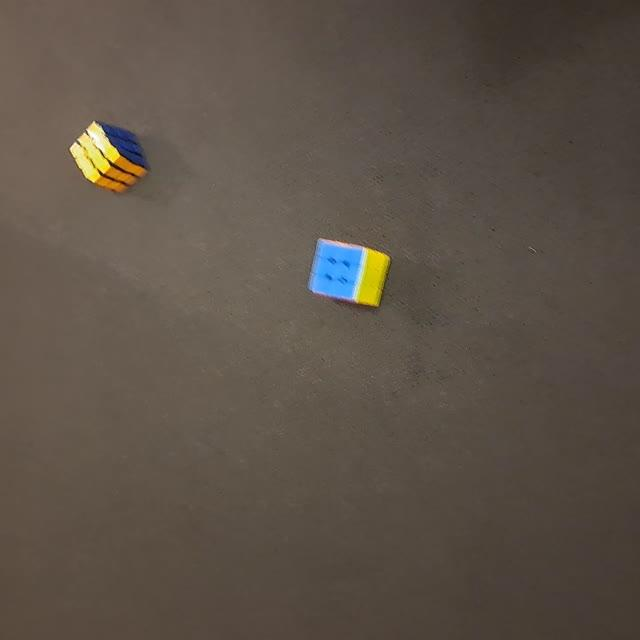rubix_cube: (300, 238, 393, 313), (60, 119, 151, 195)
